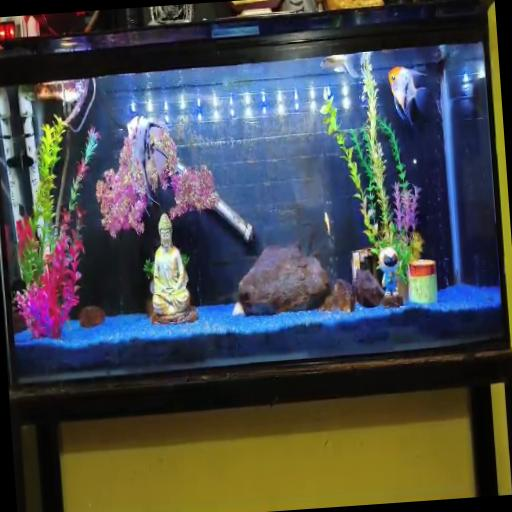Fish: (126, 117, 165, 205), (388, 67, 428, 123), (320, 54, 360, 79), (6, 150, 33, 169), (323, 212, 330, 236)
